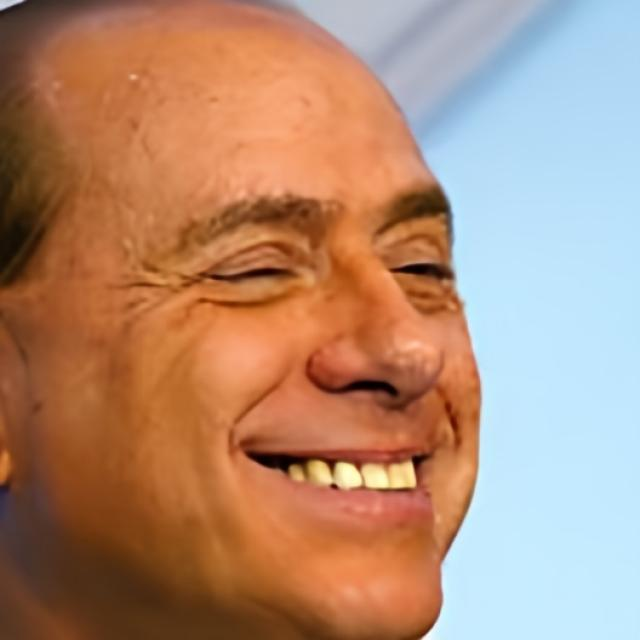happy: (48, 34, 479, 623)
